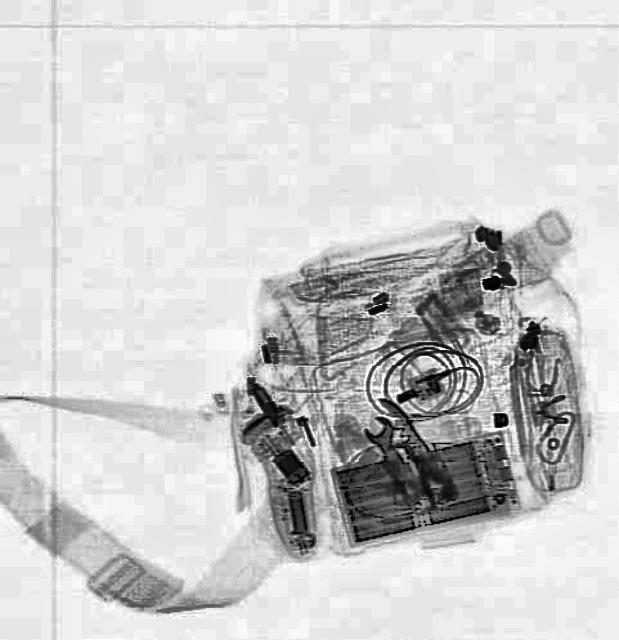Knife: (369, 392, 464, 504)
Wrench: (356, 410, 430, 504)
